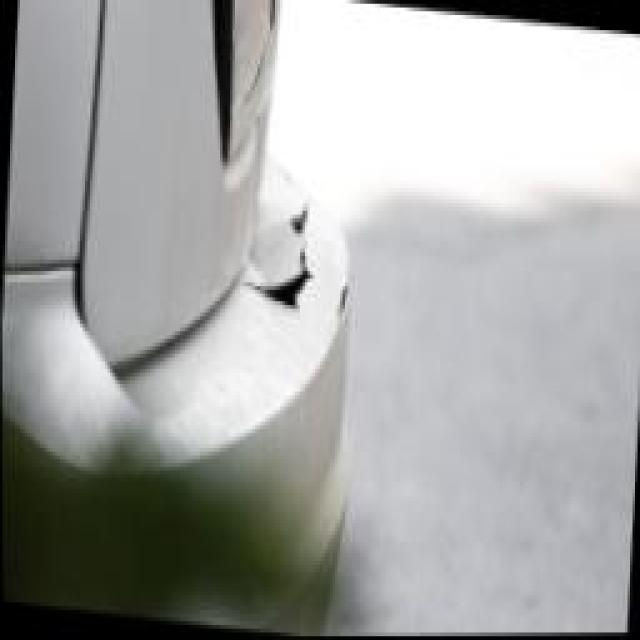Bumper: (208, 151, 371, 419)
